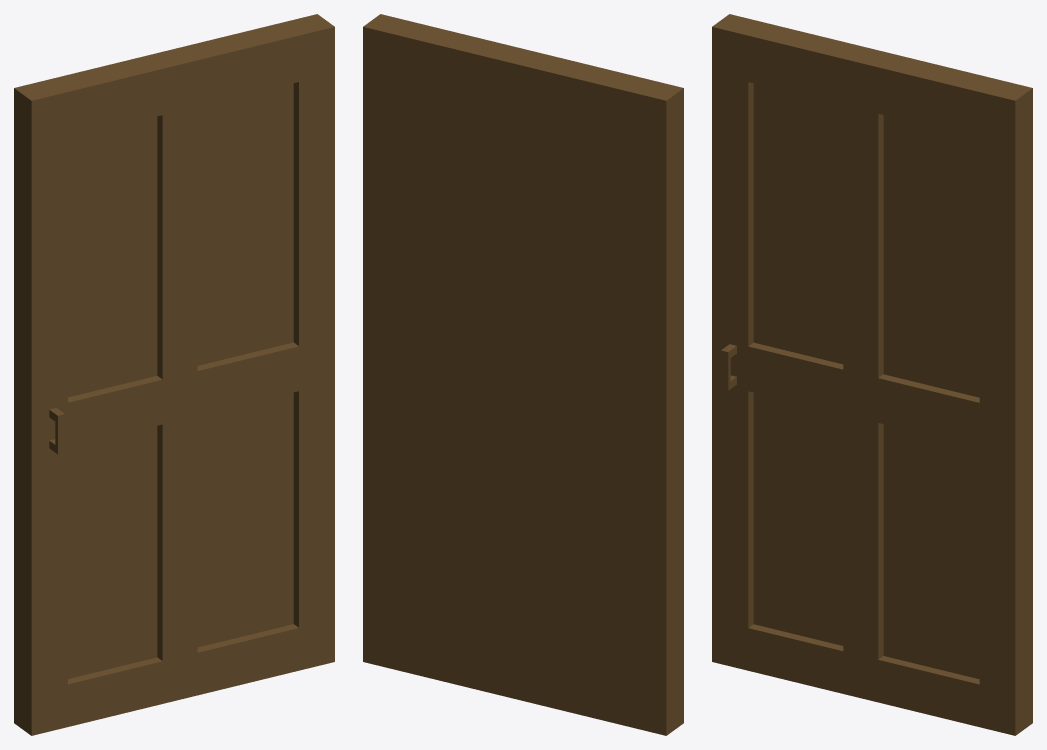
File: Hub_Door.fbx
3 renders of one model, left to right at view 1: azimuth 30°, elevation 25°; view 2: azimuth 150°, elevation 25°; view 3: azimuth 330°, elevation 25°, orthographic.
Parts seen in each view (by area): view 1: pasted__pCube48; view 2: pasted__pCube48; view 3: pasted__pCube48.
Boxes of the visible parts, bbox=[...] form: pasted__pCube48: bbox=[14, 14, 334, 735]; pasted__pCube48: bbox=[363, 14, 683, 735]; pasted__pCube48: bbox=[712, 14, 1032, 735].
Bounding box in the file's own units: 1 × 2 × 0.1494.
